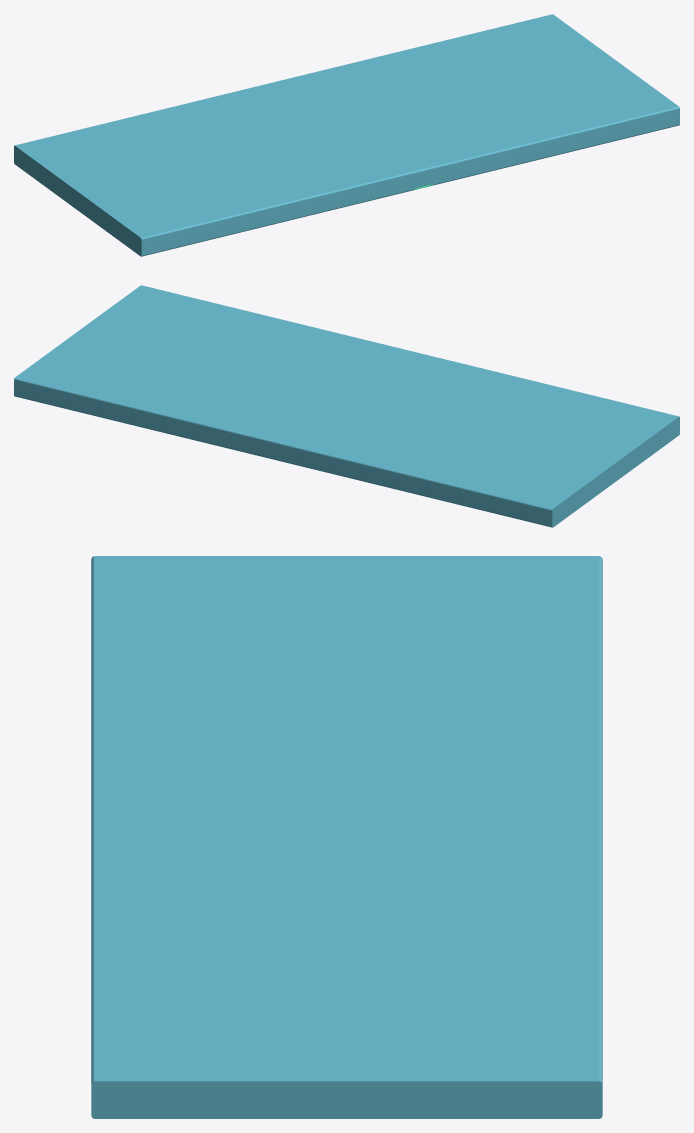
Rendered from shelfTop.glb.
3 views of the same model, one above another, from view 1: azimuth 30°, elevation 25°; view 2: azimuth 150°, elevation 25°; view 3: azimuth 270°, elevation 25° (orthographic). The views are drawn at different scales.
Visible parts, largest first — view 1: roof; view 2: roof; view 3: roof.
Part boxes in pixels (left/top/right/bottom): roof: left=14, top=14, right=679, bottom=256; roof: left=14, top=285, right=679, bottom=527; roof: left=91, top=556, right=602, bottom=1118.
Bounding box in the file's own units: 9 × 0.2999 × 3.7.
1 material, 1 textured.
